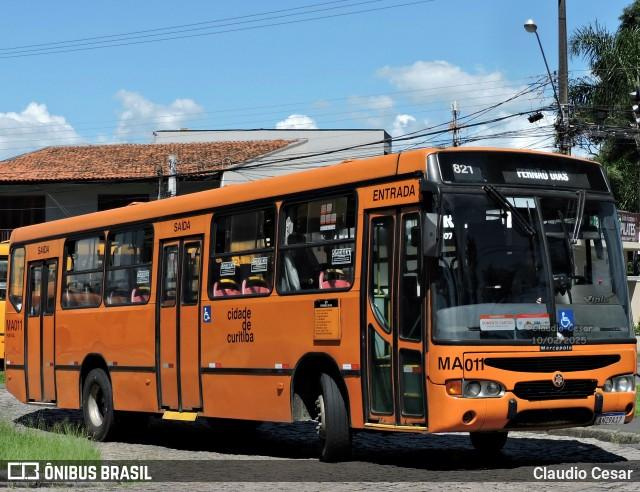FERNAO DIAS: (513, 165, 575, 186)
